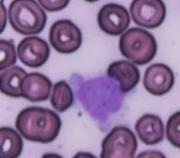M: (71, 71, 128, 124)
